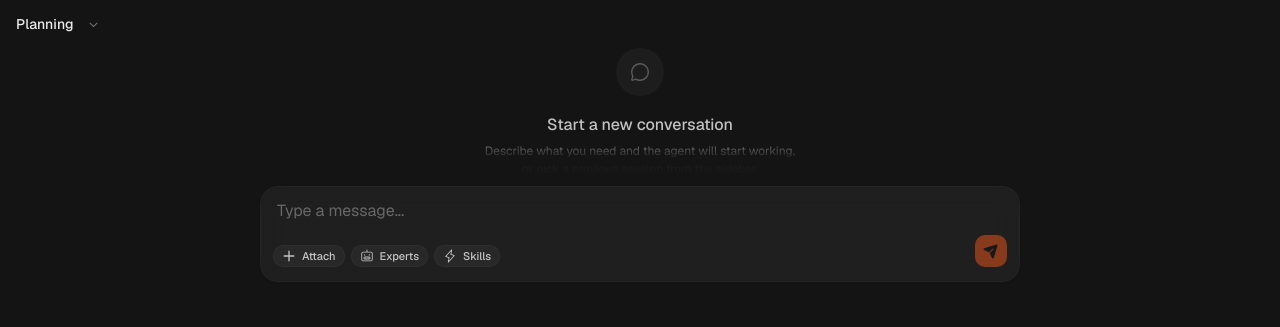
Test: ChatPanel interactions › renames the active session inline by clicking the title
This screenshot has width=1280, height=327.
Click the button with aria-label "rename session planning" at (45, 24), box [10,12,80,36]
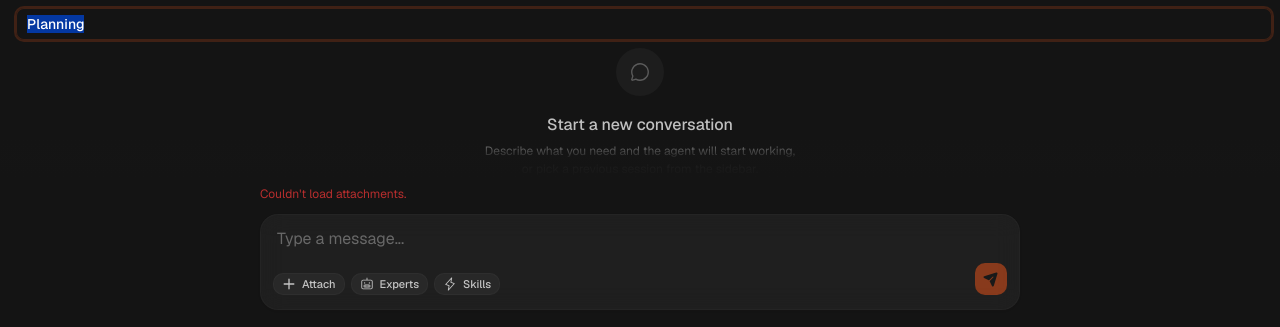
Replace the text in the field named "session title" with "Release plan" at (644, 24), box [16,8,1272,40]
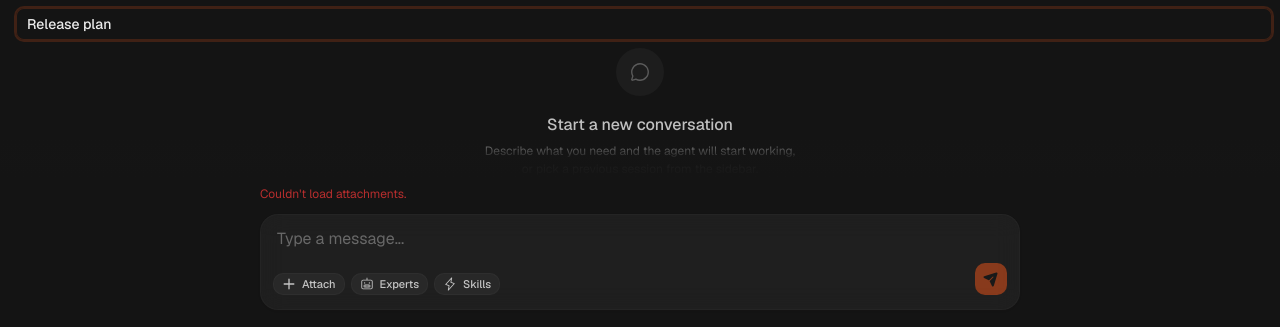
Press Enter in the field named "session title", box [16,8,1272,40]
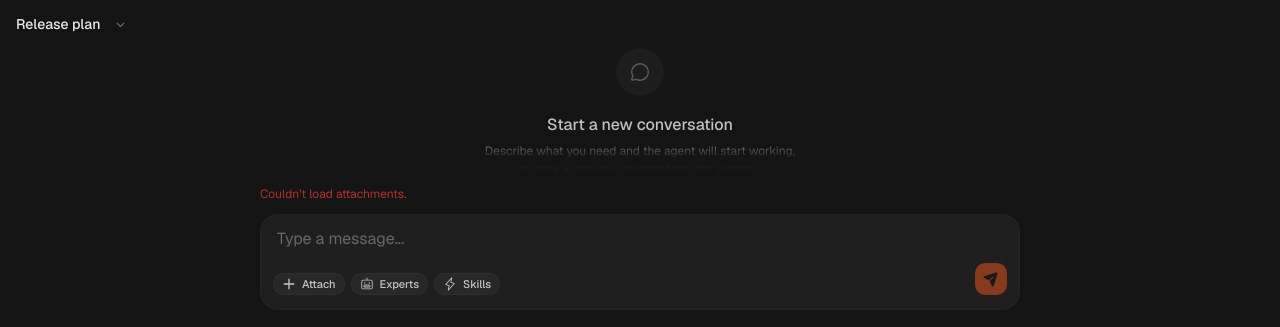
Now the text "Release plan" is shown, box [16,14,100,34]
